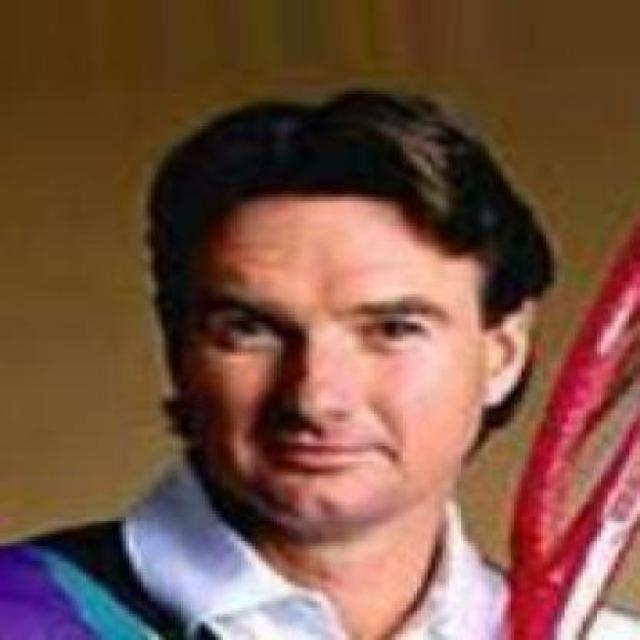closed-mouth: (260, 434, 396, 469)
